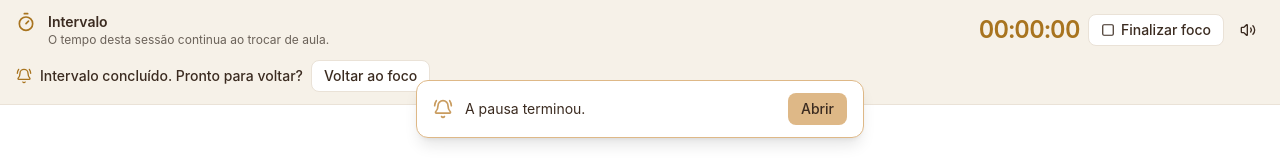
Test case: sessão de foco junto à aula (backend local real) › reutiliza sessão existente e volta do intervalo do Pomodoro sem criar outra
The image size is (1280, 164).
Click the button "Voltar ao foco". click: (371, 76)
box: [311,60,430,92]
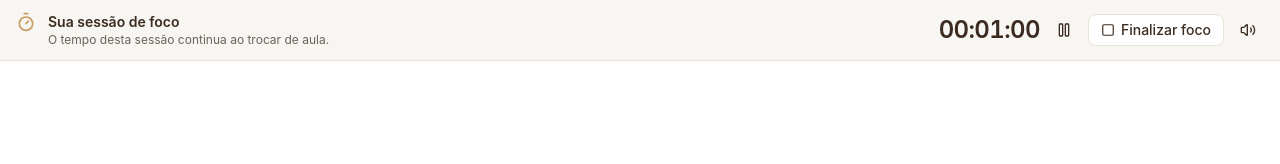
Check: the button named "Pausar foco" is shown, box [1048,14,1080,46]
